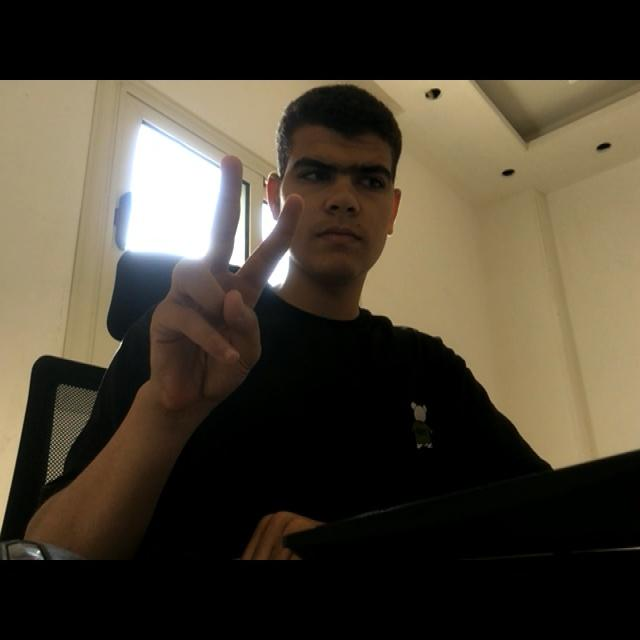Yes: (140, 135, 316, 455)
